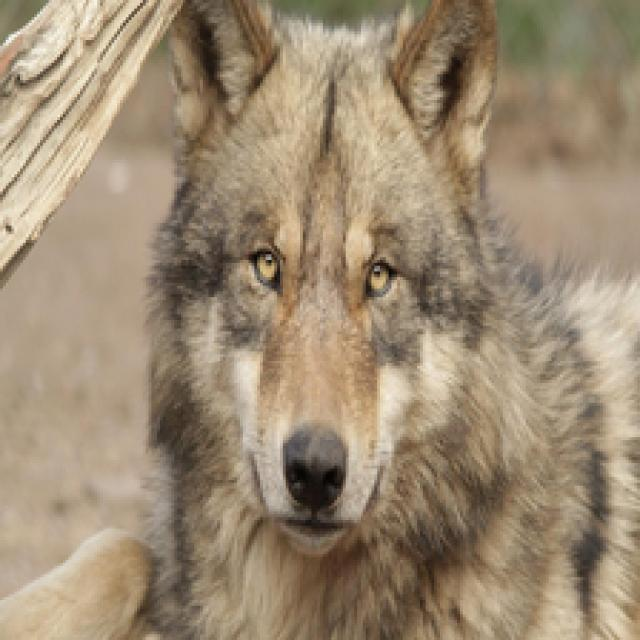wolf: (127, 0, 567, 640)
